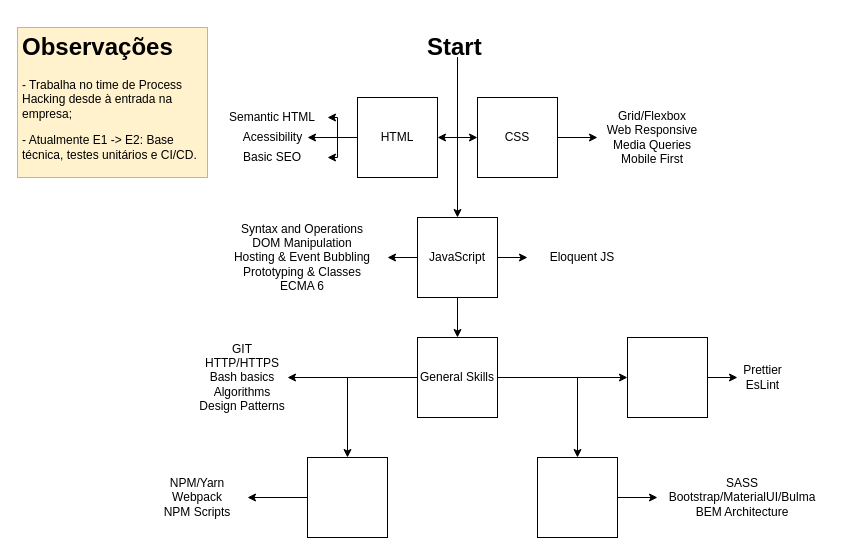
The diagram is 845 pixels wide and 555 high, and some of its shapes have lost their labels. Each missing label, with the centre of its shape:
Build Tools: point (347, 497)
Linters: point (667, 377)
Styling: point (577, 497)
